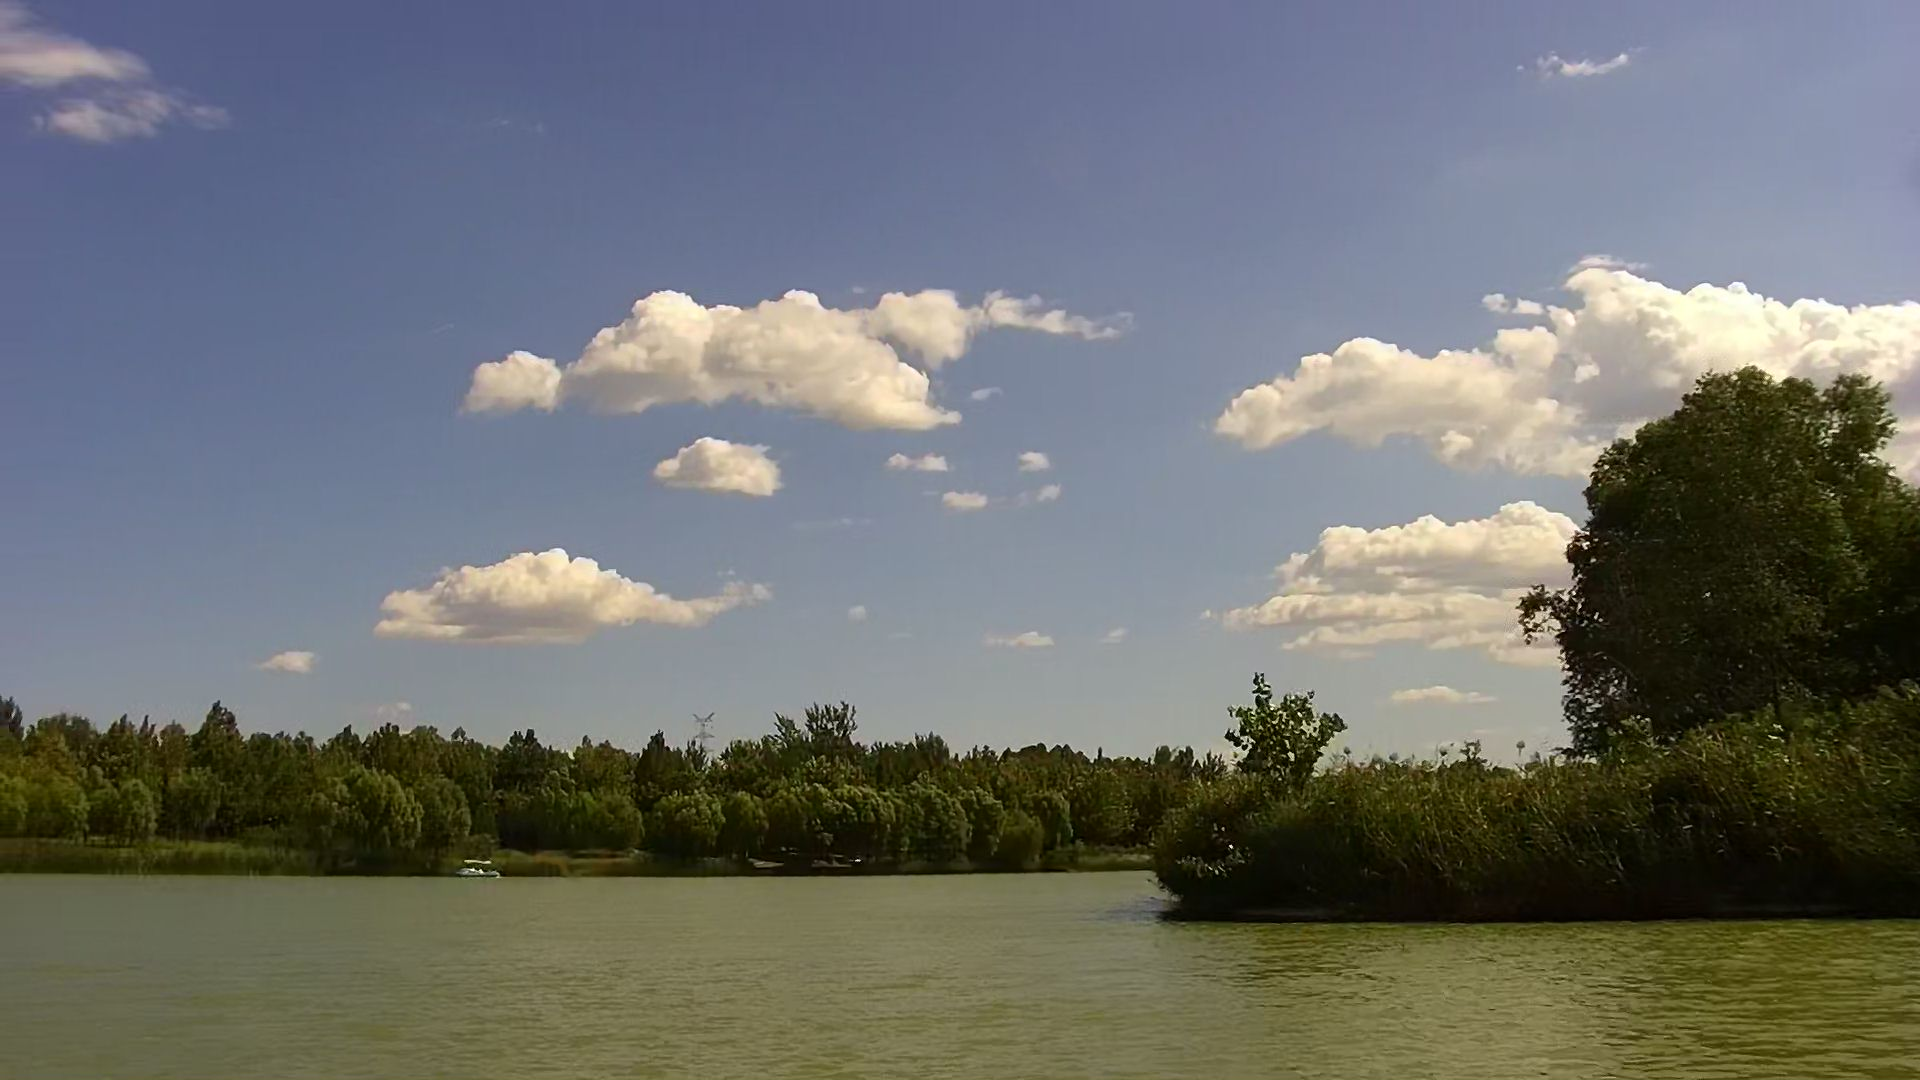boat: (454, 855, 506, 884)
